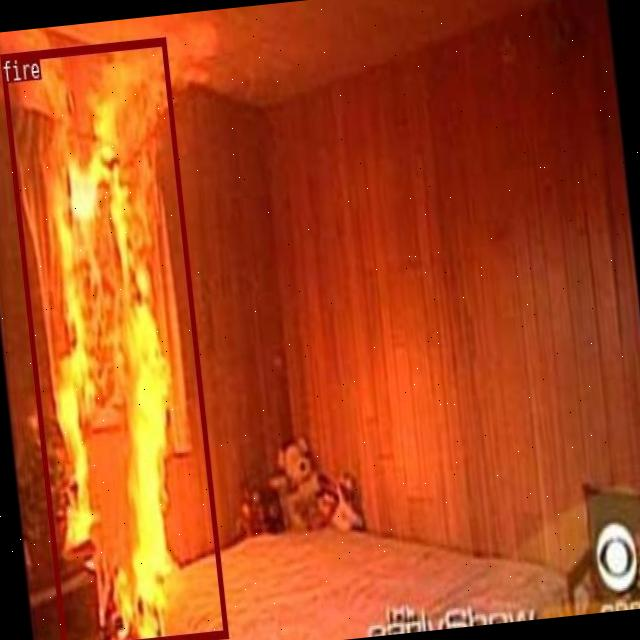fire: (0, 36, 227, 640)
